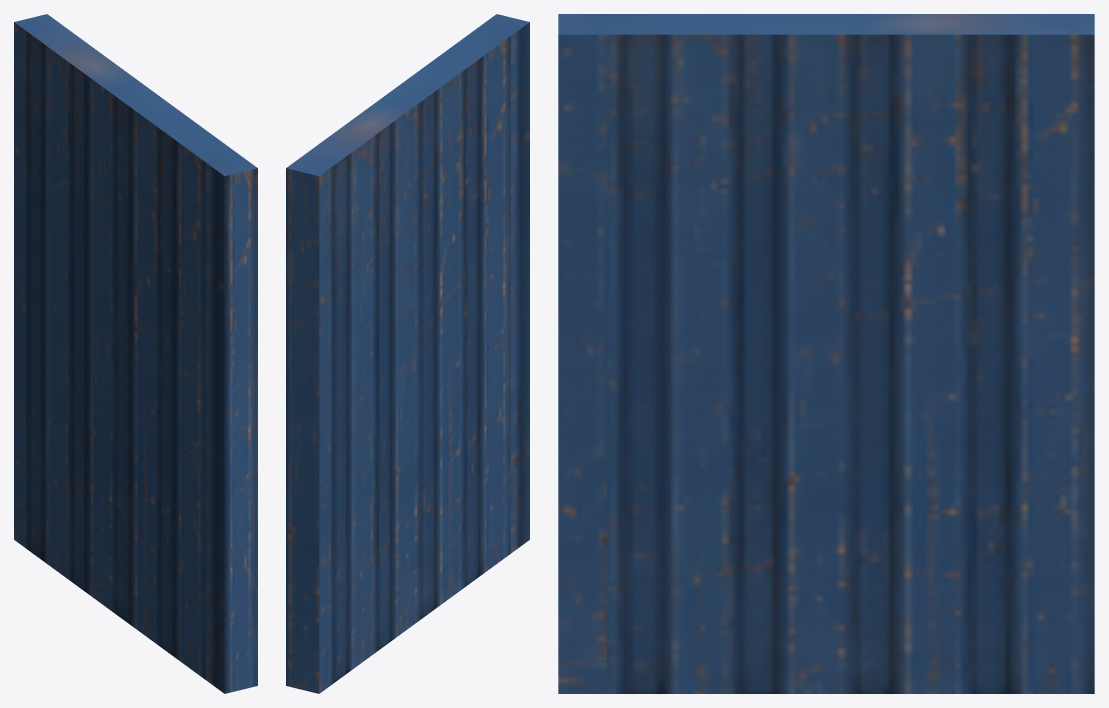
Rendered from dış duvar.fbx.
3 renders of one model, left to right at view 1: azimuth 30°, elevation 25°; view 2: azimuth 150°, elevation 25°; view 3: azimuth 270°, elevation 25°, orthographic. The views are drawn at different scales.
Parts seen in each view (by area): view 1: Plane.008; view 2: Plane.008; view 3: Plane.008.
Part boxes in pixels (x1,y1,x2,y2): Plane.008: (14,14,257,693); Plane.008: (286,14,529,693); Plane.008: (558,14,1094,693).
Size of the model in its own units: 0.2 by 2.98 by 2.2.
Materials: 1 (1 with a texture image).
